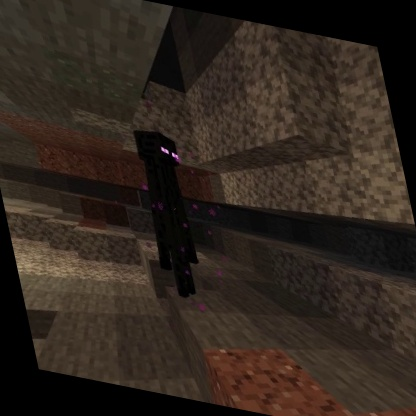enderman: (126, 122, 214, 306)
